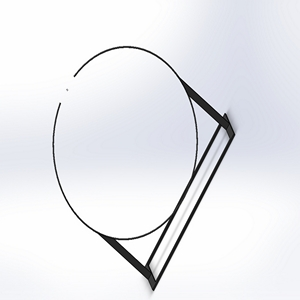circle: (51, 42, 235, 291)
